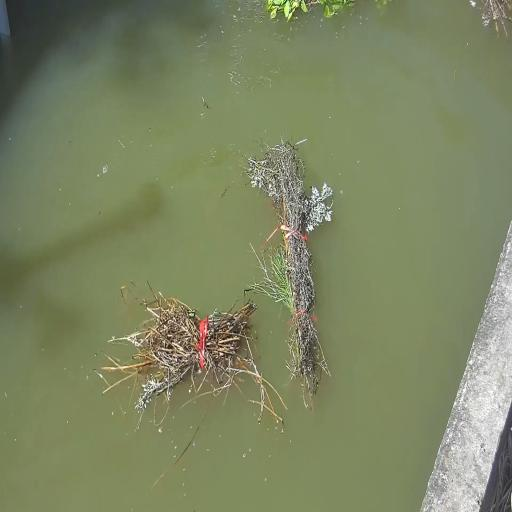twig: (250, 130, 334, 396), (107, 296, 270, 431), (259, 0, 389, 38), (452, 0, 512, 33)
